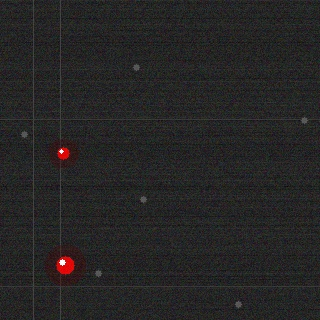red_fault: (54, 254, 76, 276), (55, 145, 71, 161)
